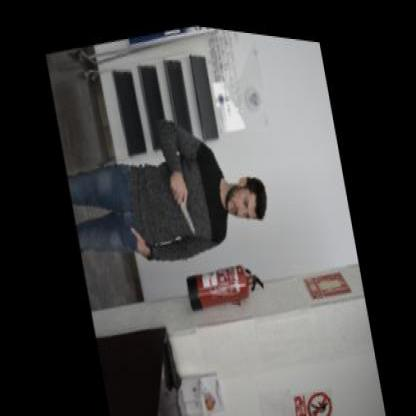knife: (176, 183, 197, 231)
